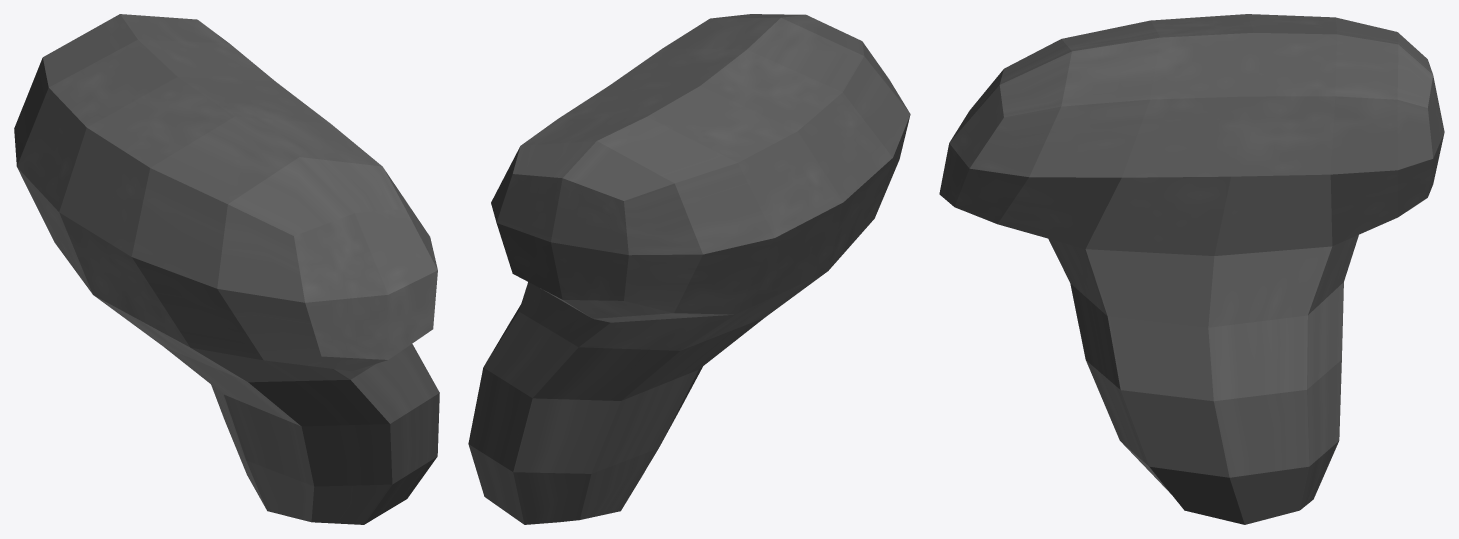
The model's file is mod_natural_rock1.fbx.
The picture shows the model from 3 angles, left to right: view 1: azimuth 30°, elevation 25°; view 2: azimuth 150°, elevation 25°; view 3: azimuth 270°, elevation 25°; orthographic projection. The views are drawn at different scales.
Visible parts, largest first — view 1: mesh_obj_env_nat_rock1; view 2: mesh_obj_env_nat_rock1; view 3: mesh_obj_env_nat_rock1.
Part boxes in pixels (box(x1,y1,x2,y2)): mesh_obj_env_nat_rock1: box(14, 14, 439, 524); mesh_obj_env_nat_rock1: box(468, 14, 910, 524); mesh_obj_env_nat_rock1: box(939, 14, 1444, 524).
Bounding box in the file's own units: 510 × 475 × 372.
